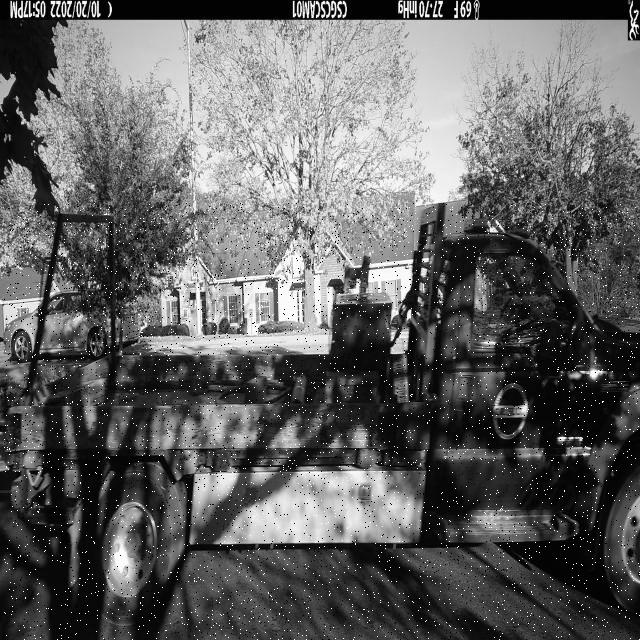Pickup- Utility: (4, 203, 640, 640)
